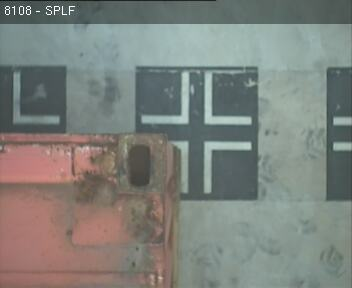groundmarker_1: (142, 71, 252, 124), (171, 140, 253, 195)
